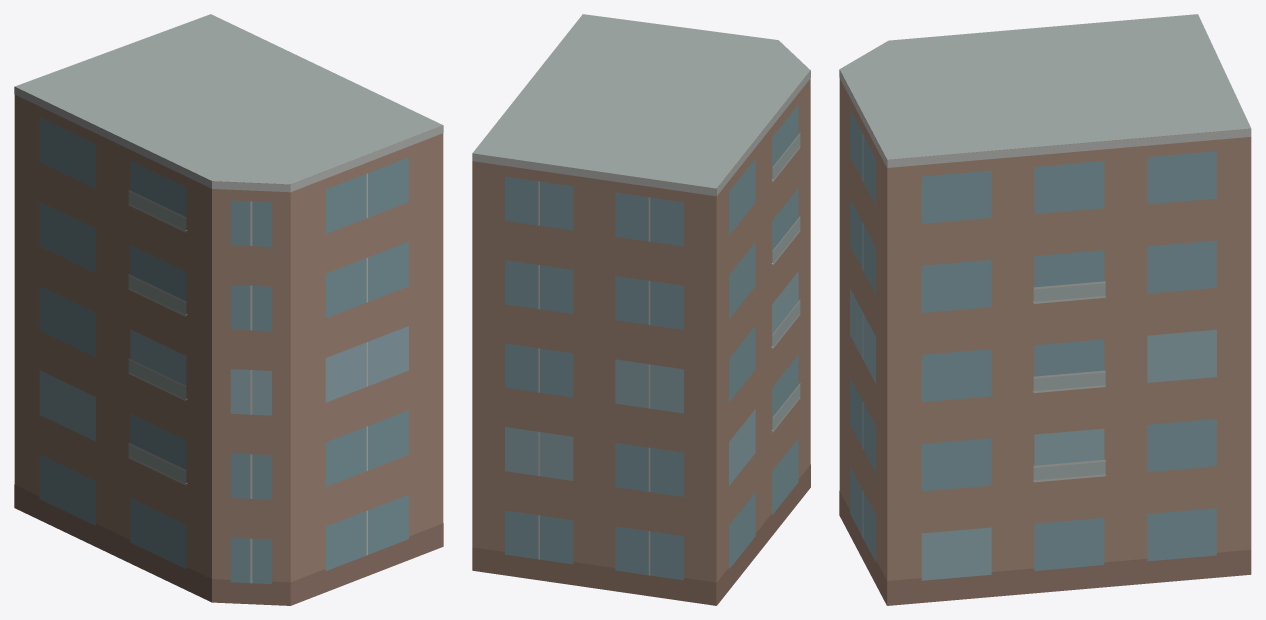
The model's file is survey-upis-32699861.glb.
The picture shows the model from 3 angles, left to right: view 1: azimuth 30°, elevation 25°; view 2: azimuth 150°, elevation 25°; view 3: azimuth 270°, elevation 25°; orthographic projection. The views are drawn at different scales.
Visible parts, largest first — view 1: survey-upis-32699861.tmp; view 2: survey-upis-32699861.tmp; view 3: survey-upis-32699861.tmp.
Boxes of the visible parts, x1,y1,x2,y2 form: survey-upis-32699861.tmp: [14, 14, 443, 605]; survey-upis-32699861.tmp: [472, 14, 810, 605]; survey-upis-32699861.tmp: [839, 14, 1251, 605].
Size of the model in its own units: 9.18 by 13.1 by 10.97.
